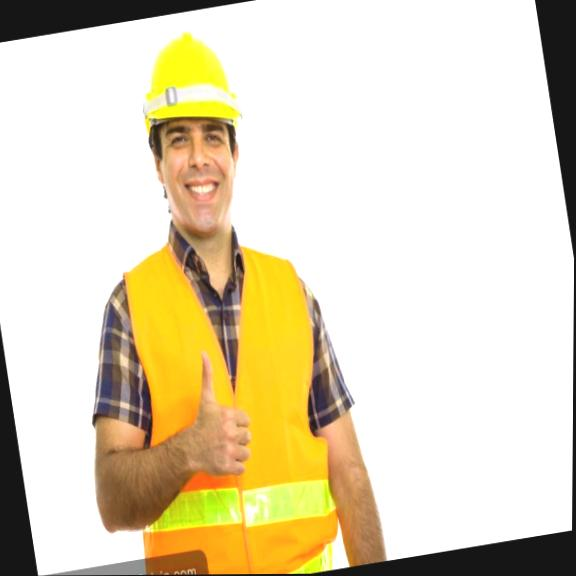safety_vest: (55, 214, 381, 576)
